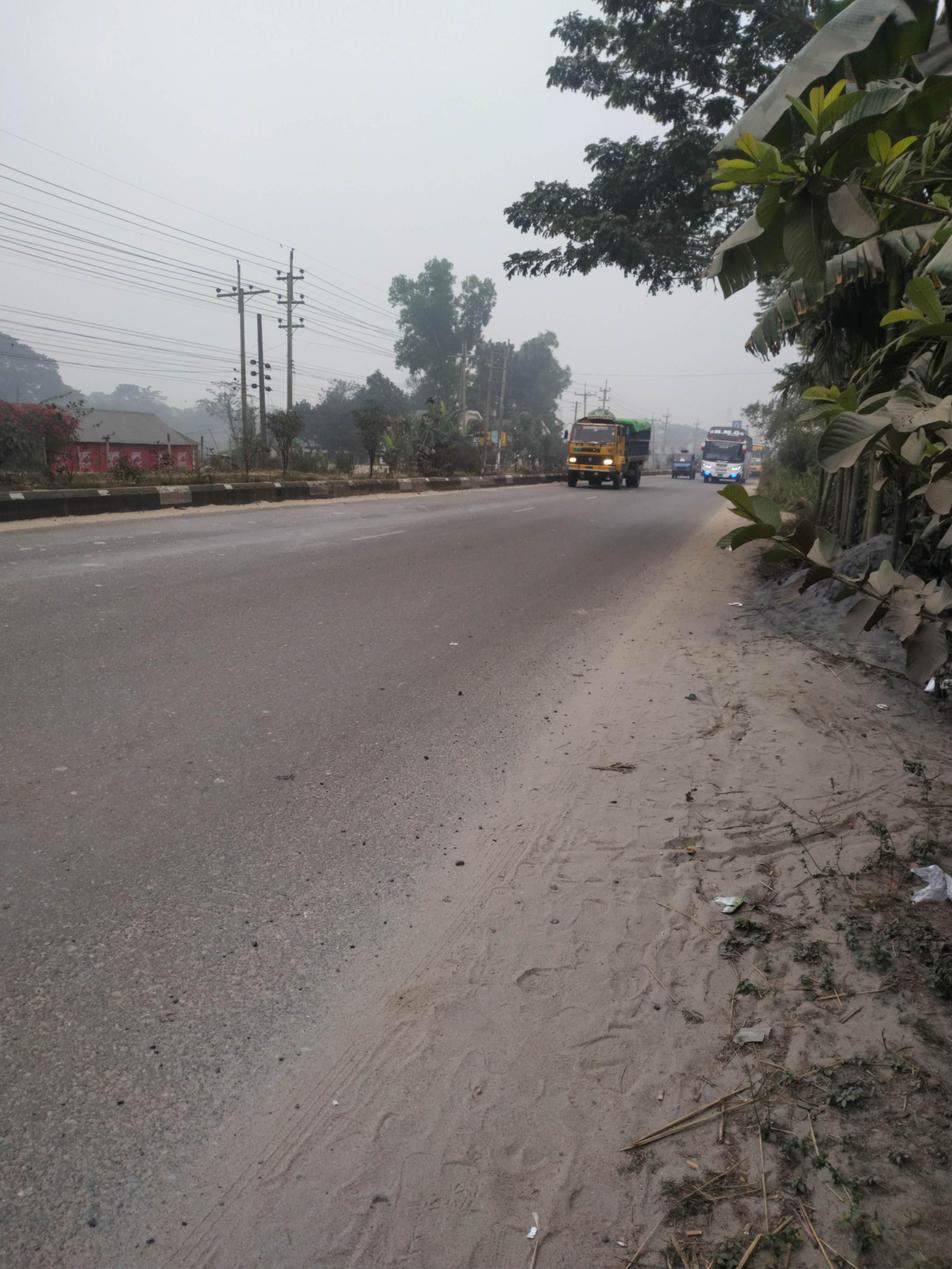Bus: (697, 422, 760, 502)
Truck: (554, 402, 668, 501), (668, 444, 706, 497)
